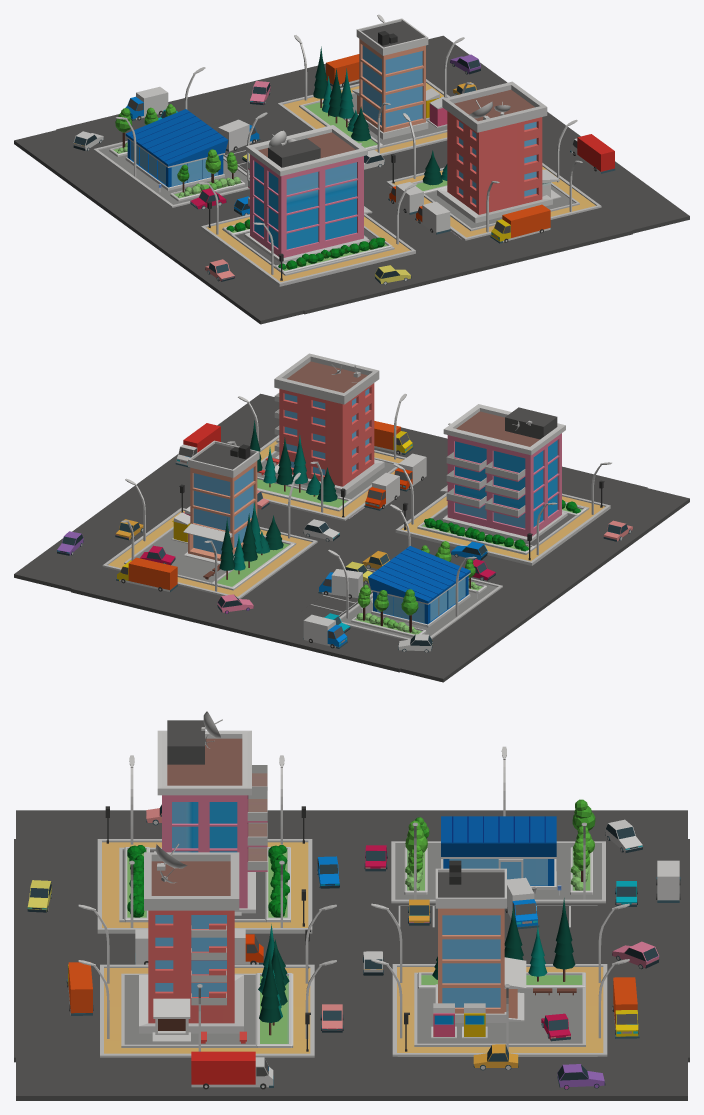
3 renders of one model, top to bottom at view 1: azimuth 30°, elevation 25°; view 2: azimuth 150°, elevation 25°; view 3: azimuth 270°, elevation 25°, orthographic. The views are drawn at different scales.
Visible parts, largest first — view 1: ROAD, House, House.001, House.002, Shop, Floor, Floor.006, Floor.002, Car_08.3, Floor.005, Car_08.4, Floor.001 (+11 smaller); view 2: ROAD, House, House.001, House.002, Shop, Floor, Floor.005, Floor.006, Floor.003, Car_08.5, Floor.002, Car_08.1 (+13 smaller); view 3: ROAD, House.001, House, House.002, Shop, Floor.005, Floor.002, Floor.003, Floor, Floor.006, Floor.001, Car_08.4 (+28 smaller).
Part boxes in pixels (x1,y1,x2,y2): ROAD: (14, 35, 689, 324); House: (244, 125, 372, 263); House.001: (437, 81, 561, 223); House.002: (352, 18, 428, 139); Shop: (125, 109, 228, 190); Floor: (201, 213, 415, 286); Floor.006: (93, 140, 249, 207); Floor.002: (386, 163, 601, 240); Car_08.3: (490, 204, 550, 243); Floor.005: (277, 79, 449, 155); Car_08.4: (570, 134, 615, 173); Floor.001: (424, 182, 579, 231); ROAD: (14, 393, 689, 682); House: (440, 404, 567, 542); House.001: (274, 353, 384, 494); House.002: (183, 440, 259, 564); Shop: (368, 546, 470, 627); Floor: (395, 492, 610, 565); Floor.005: (102, 507, 317, 598); Floor.006: (339, 578, 502, 640); Floor.003: (124, 526, 296, 590); Car_08.5: (116, 557, 177, 591); Floor.002: (260, 435, 406, 520); Car_08.1: (303, 614, 347, 648); ROAD: (14, 810, 689, 1100); House.001: (139, 852, 243, 1042); House: (154, 720, 267, 915); House.002: (435, 860, 526, 1022); Shop: (441, 816, 556, 889); Floor.005: (392, 964, 607, 1056); Floor.002: (100, 964, 314, 1057); Floor.003: (414, 972, 585, 1046); Floor: (97, 839, 312, 933); Floor.006: (391, 841, 605, 903); Floor.001: (121, 973, 292, 1047); Car_08.4: (191, 1051, 273, 1089).
Size of the model in its own units: 139 by 38.53 by 139.
Materials: 8 (3 with a texture image).
